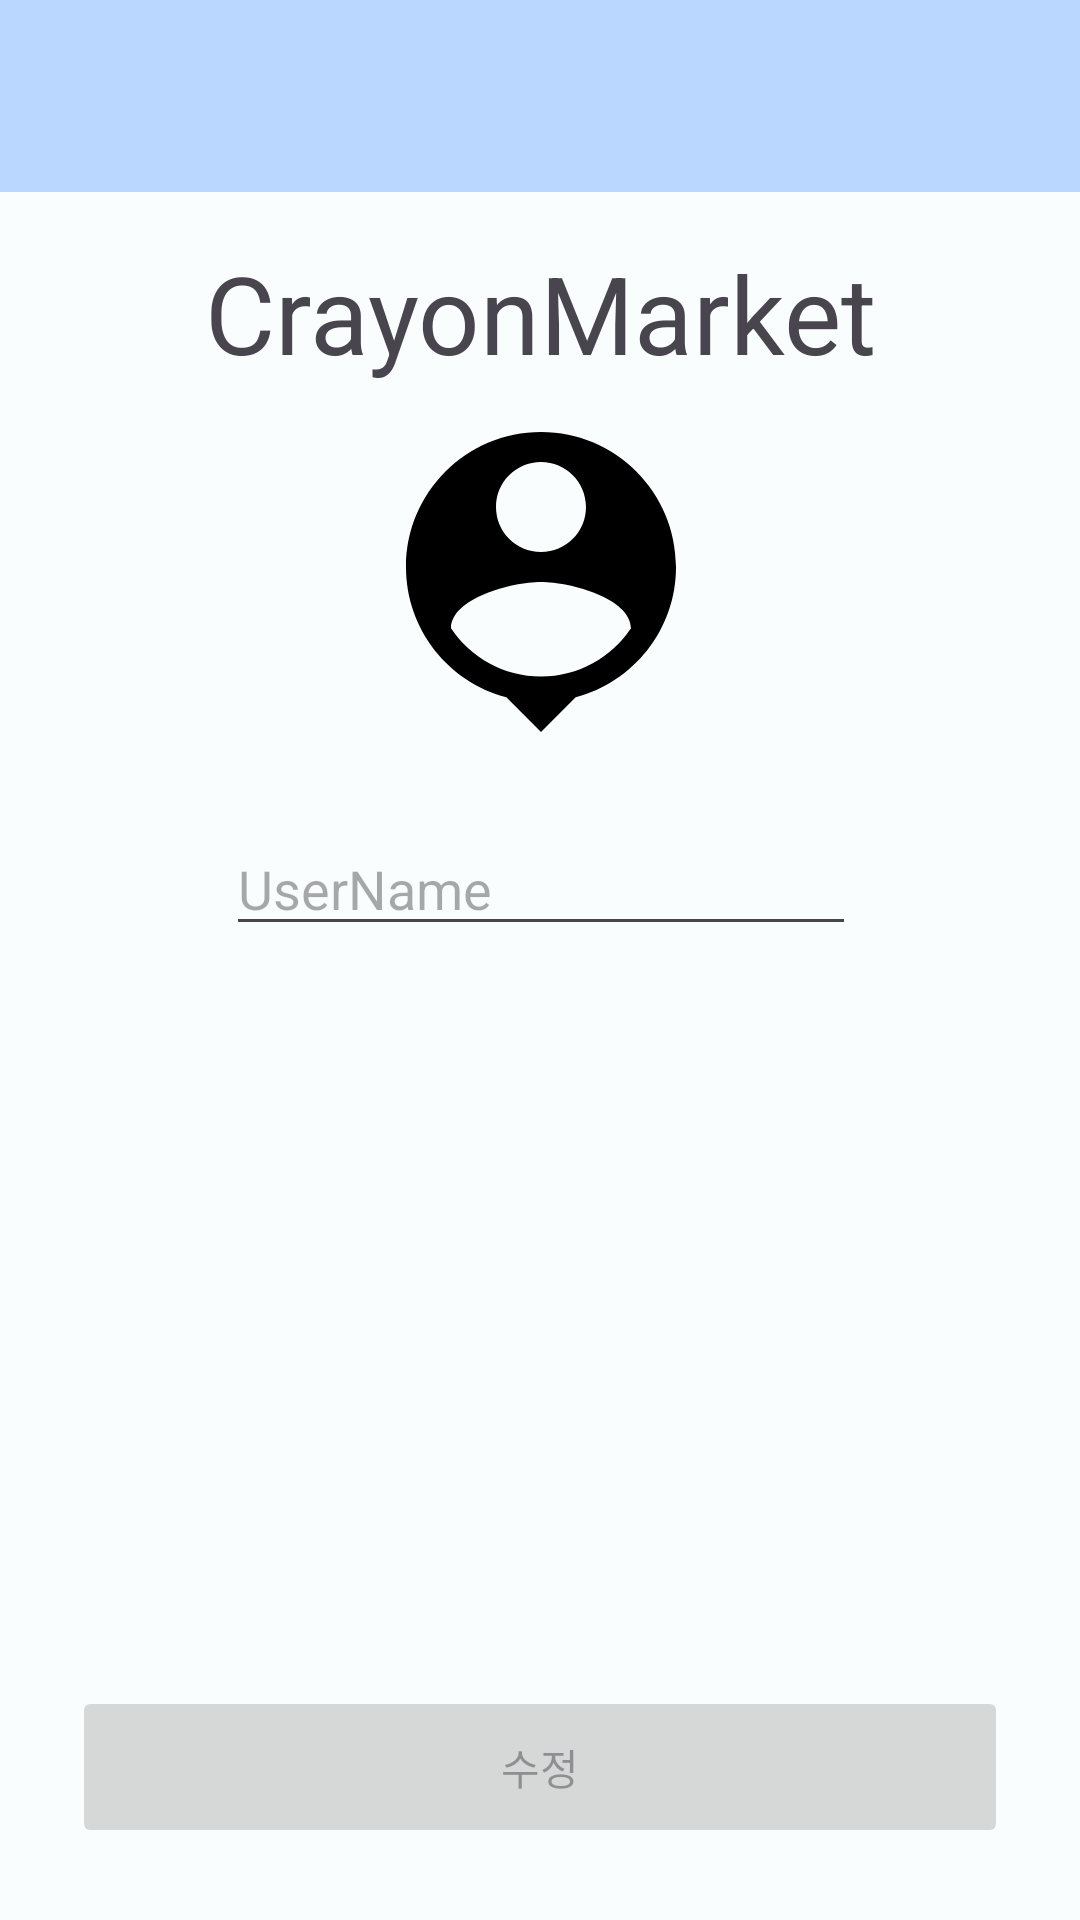

Screen size 1080×1920. Icon name, then its center in pixels as [x,y]:
person: [541,582]
